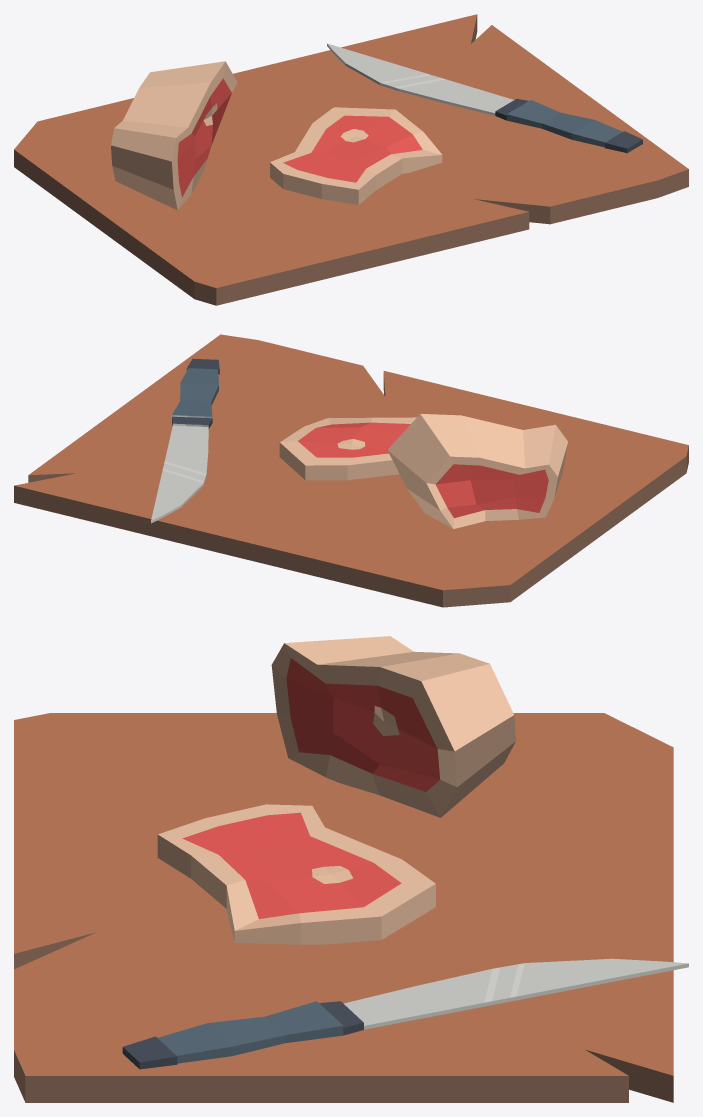
File: chopping-board-type-01.obj
The picture shows the model from 3 angles, top to bottom: view 1: azimuth 30°, elevation 25°; view 2: azimuth 150°, elevation 25°; view 3: azimuth 270°, elevation 25°; orthographic projection. The views are drawn at different scales.
Visible parts, largest first — view 1: chopping-board-type-01; view 2: chopping-board-type-01; view 3: chopping-board-type-01.
Boxes of the visible parts, <box> form: chopping-board-type-01: <box>14,14,688,305</box>; chopping-board-type-01: <box>14,334,688,607</box>; chopping-board-type-01: <box>14,636,688,1102</box>.
Size of the model in its own units: 0.2363 by 0.0522 by 0.1856.
